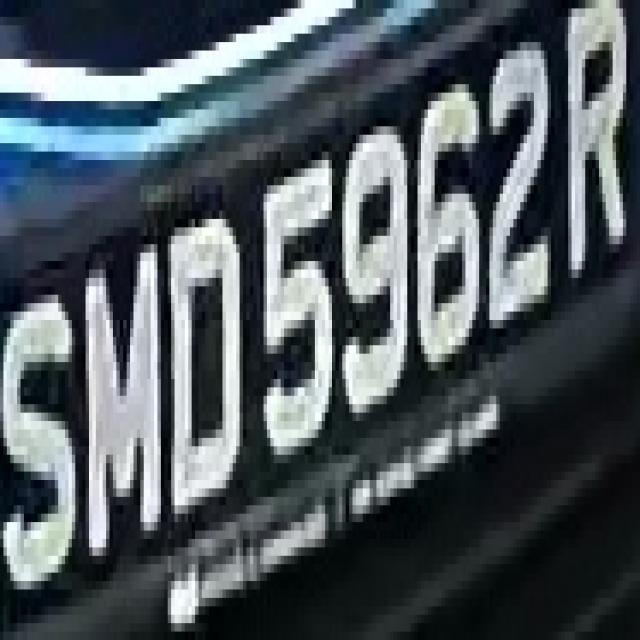2: (479, 17, 558, 345)
5: (250, 135, 335, 480)
6: (418, 67, 482, 370)
9: (336, 118, 414, 421)
D: (171, 211, 247, 514)
M: (79, 235, 164, 572)
R: (544, 17, 637, 303)
S: (3, 270, 79, 623)
